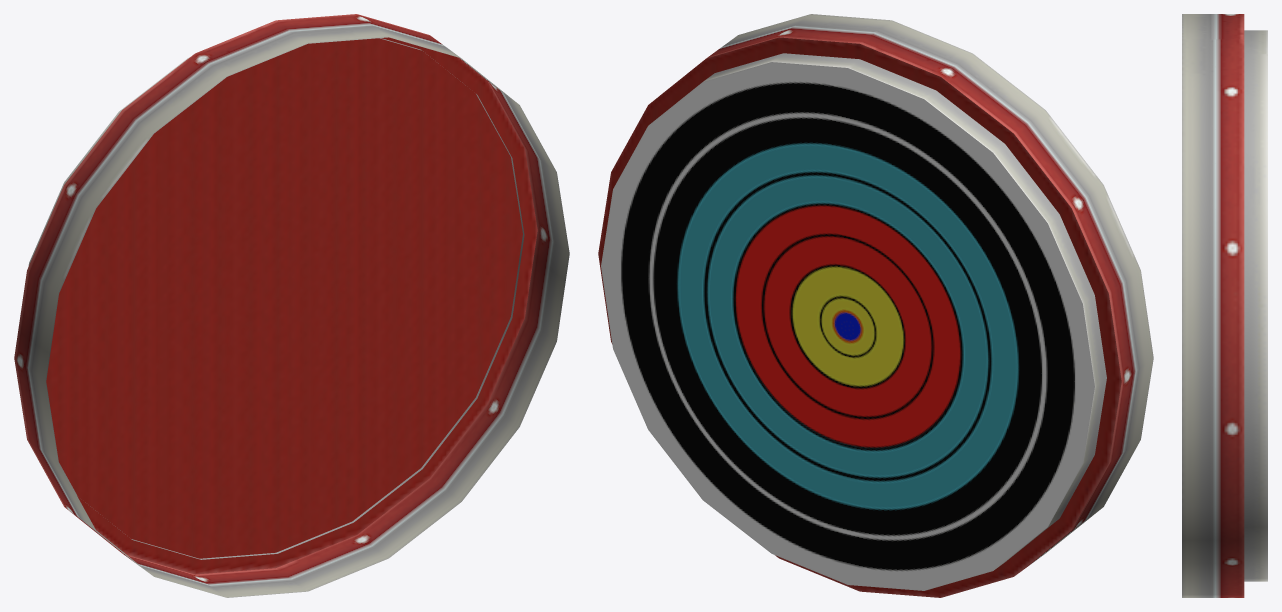
File: target.glb
3 renders of one model, left to right at view 1: azimuth 30°, elevation 25°; view 2: azimuth 150°, elevation 25°; view 3: azimuth 270°, elevation 25°, orthographic. The views are drawn at different scales.
Parts seen in each view (by area): view 1: Bia ban Resize; view 2: Bia ban Resize; view 3: Bia ban Resize.
Boxes of the visible parts, x1,y1,x2,y2 form: Bia ban Resize: (14, 14, 569, 597); Bia ban Resize: (598, 14, 1153, 597); Bia ban Resize: (1182, 14, 1267, 597).
Bounding box in the file's own units: 1.67 × 1.67 × 0.2434.
1 material, 1 textured.
